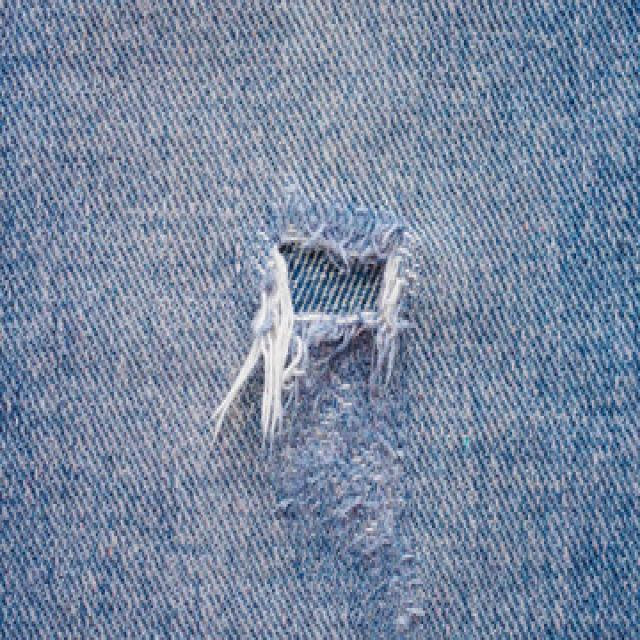Hole: (265, 375, 427, 640), (215, 215, 403, 430)
